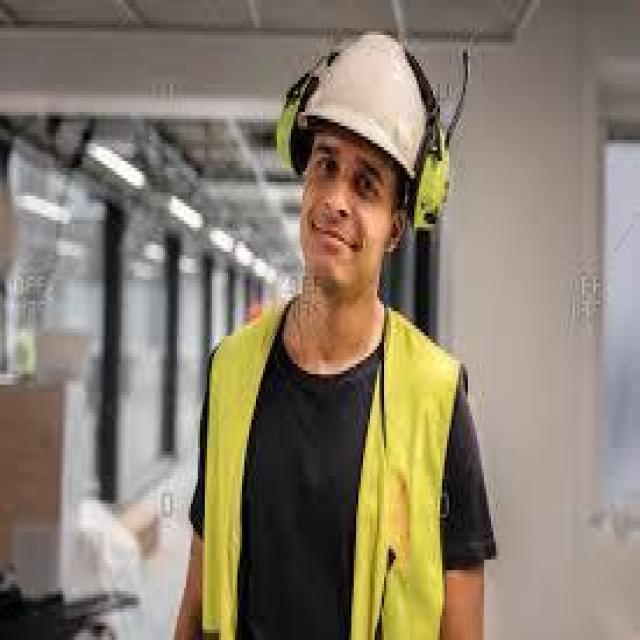helmet: (291, 31, 430, 175)
